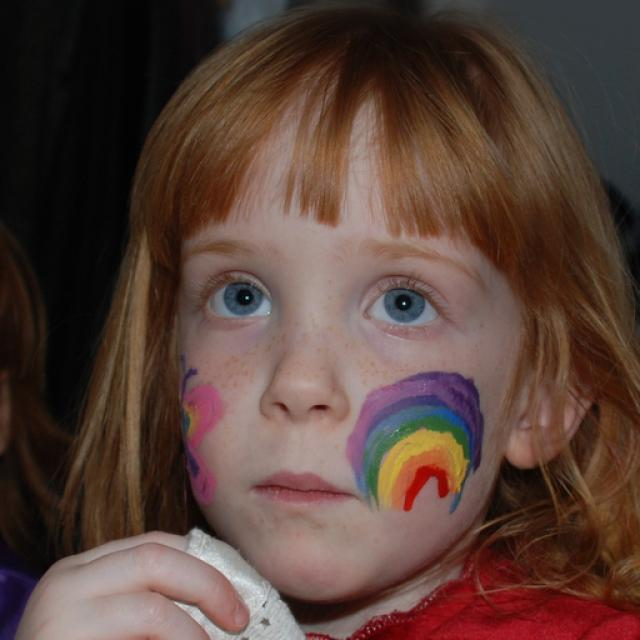fear: (171, 105, 521, 599)
